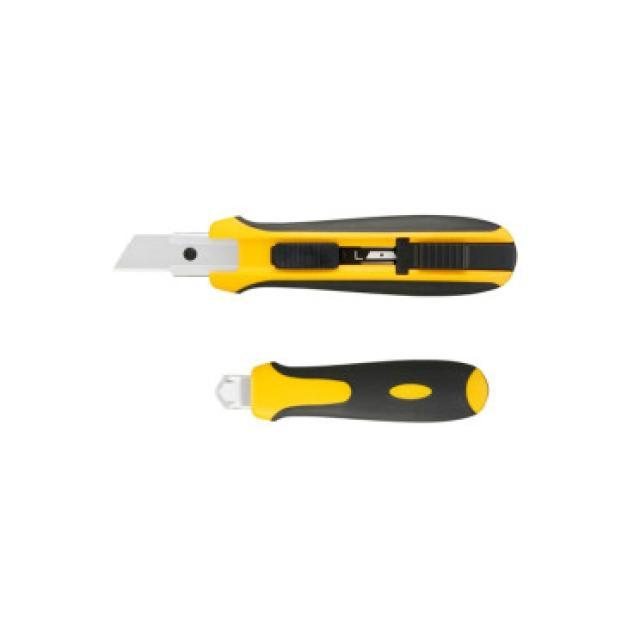cutter: (104, 206, 524, 302), (209, 354, 496, 428)
